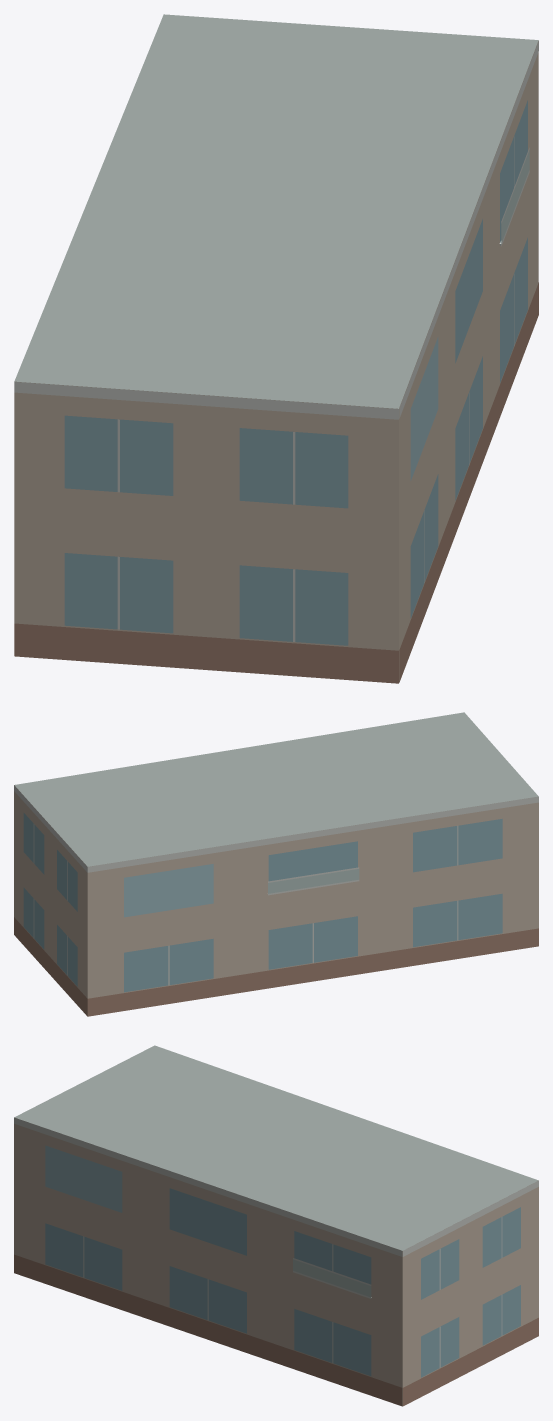
The model's file is survey-upis-32884408.glb.
3 renders of one model, top to bottom at view 1: azimuth 30°, elevation 25°; view 2: azimuth 150°, elevation 25°; view 3: azimuth 270°, elevation 25°, orthographic. The views are drawn at different scales.
Visible parts, largest first — view 1: survey-upis-32884408.tmp; view 2: survey-upis-32884408.tmp; view 3: survey-upis-32884408.tmp.
Boxes of the visible parts, x1,y1,x2,y2 form: survey-upis-32884408.tmp: (14, 14, 538, 683); survey-upis-32884408.tmp: (14, 712, 538, 1016); survey-upis-32884408.tmp: (14, 1045, 538, 1406).
Bounding box in the file's own units: 17.28 × 6.1 × 18.65.
